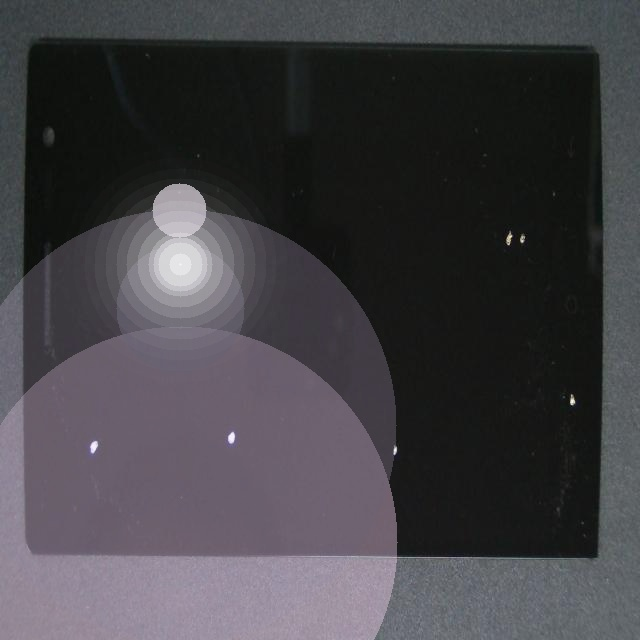stain: (205, 184, 592, 640), (280, 216, 640, 640), (247, 127, 640, 390), (104, 232, 342, 640), (42, 197, 131, 640)
